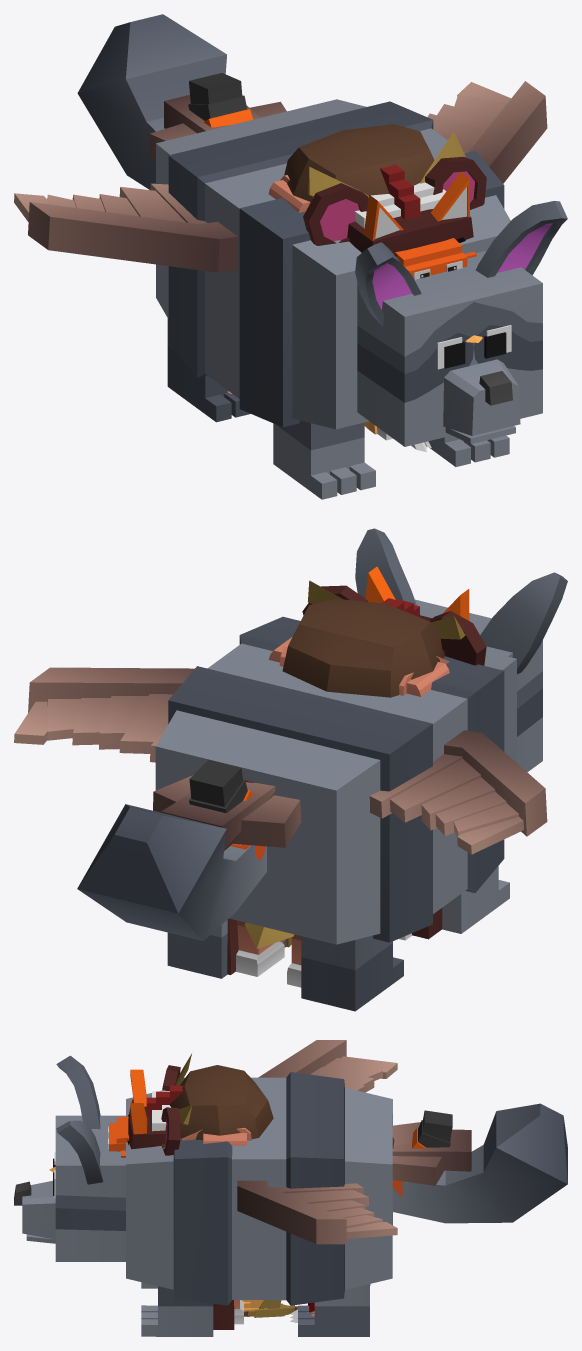
Rendered from Forest.fbx.
3 renders of one model, top to bottom at view 1: azimuth 30°, elevation 25°; view 2: azimuth 150°, elevation 25°; view 3: azimuth 270°, elevation 25°, orthographic. The views are drawn at different scales.
Parts seen in each view (by area): view 1: Raccoon, Bird, Burrowing_Owl, Bear, Fox, Chicken, Dog; view 2: Raccoon, Bird, Burrowing_Owl, Fox, Dog, Bear; view 3: Raccoon, Bird, Burrowing_Owl, Fox, Bear, Chicken, Dog.
Boxes of the visible parts, x1=… form: Raccoon: x1=77, y1=14, x2=567, y2=499; Bird: x1=14, y1=81, x2=547, y2=434; Burrowing_Owl: x1=284, y1=124, x2=465, y2=202; Bear: x1=227, y1=156, x2=486, y2=393; Fox: x1=188, y1=73, x2=476, y2=452; Chicken: x1=354, y1=164, x2=446, y2=228; Dog: x1=268, y1=175, x2=392, y2=440; Raccoon: x1=77, y1=528, x2=567, y2=1011; Bird: x1=14, y1=667, x2=547, y2=854; Burrowing_Owl: x1=244, y1=580, x2=465, y2=948; Fox: x1=189, y1=566, x2=469, y2=860; Dog: x1=236, y1=637, x2=449, y2=987; Bear: x1=227, y1=585, x2=486, y2=974; Raccoon: x1=14, y1=1055, x2=567, y2=1336; Bird: x1=49, y1=1040, x2=471, y2=1308; Burrowing_Owl: x1=170, y1=1053, x2=297, y2=1317; Fox: x1=108, y1=1069, x2=452, y2=1322; Bear: x1=127, y1=1065, x2=394, y2=1329; Chicken: x1=146, y1=1085, x2=267, y2=1316; Dog: x1=182, y1=1127, x2=251, y2=1324.
Size of the model in its own units: 166 by 96.21 by 215.
